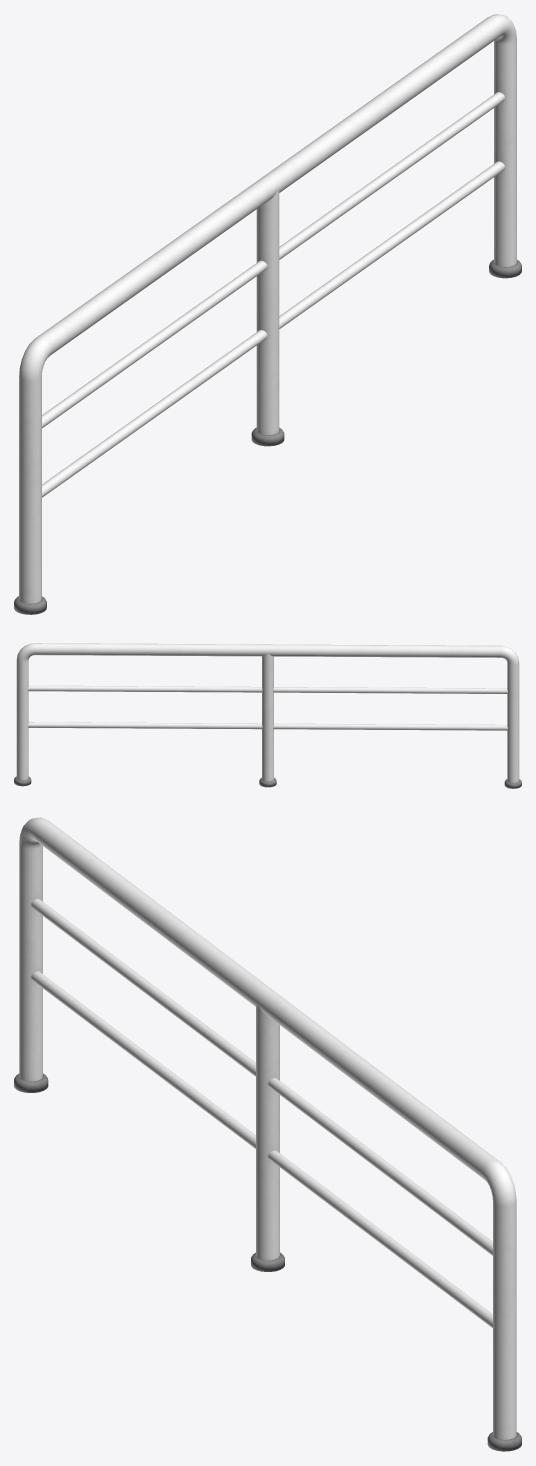
Rendered from SM_077_Guardrail_04.fbx.
3 renders of one model, top to bottom at view 1: azimuth 30°, elevation 25°; view 2: azimuth 150°, elevation 25°; view 3: azimuth 270°, elevation 25°, orthographic. The views are drawn at different scales.
Parts seen in each view (by area): view 1: SM_077_Guardrail_04; view 2: SM_077_Guardrail_04; view 3: SM_077_Guardrail_04.
Part boxes in pixels (x1=…): SM_077_Guardrail_04: x1=14, y1=14, x2=521, y2=614; SM_077_Guardrail_04: x1=14, y1=643, x2=521, y2=788; SM_077_Guardrail_04: x1=14, y1=817, x2=521, y2=1451.
Bounding box in the file's own units: 240 × 138 × 82.47.
Materials: 1 (1 with a texture image).
